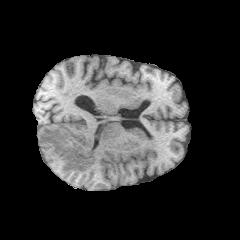glioma: (40, 128, 95, 173)
